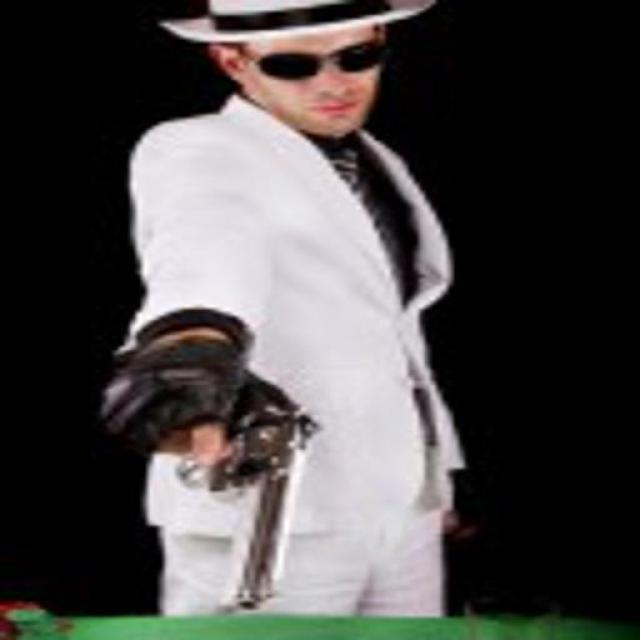pistol: (158, 380, 339, 605)
